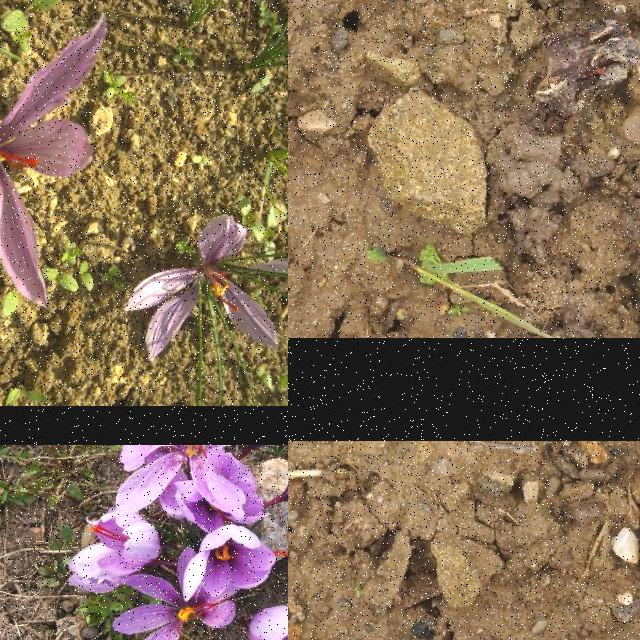flower: (0, 12, 107, 308), (124, 214, 288, 361), (112, 547, 235, 640), (182, 524, 288, 603), (247, 605, 288, 640)
overlap: (67, 445, 270, 593)
